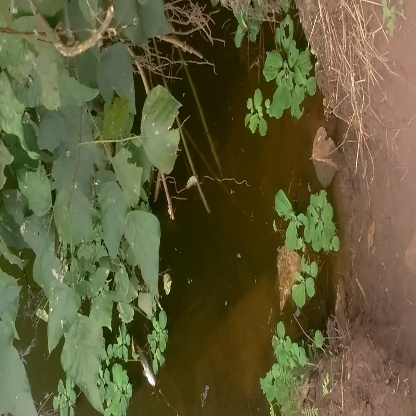leaf: (139, 83, 190, 181)
